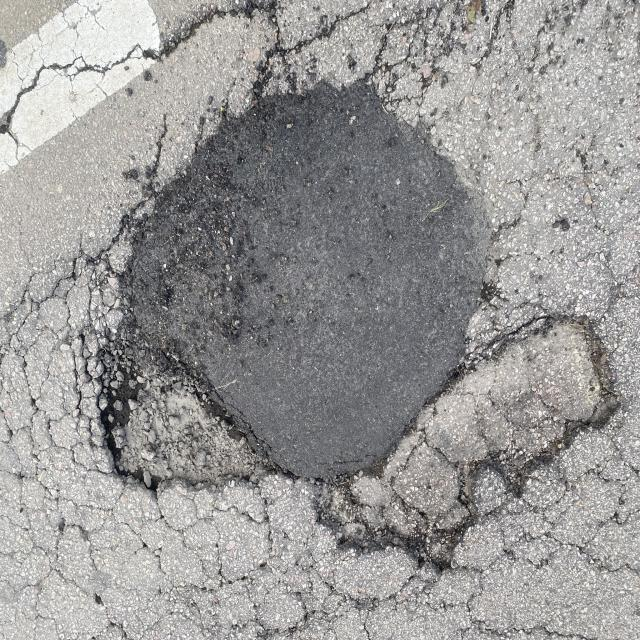Pothole: (55, 98, 640, 574)
